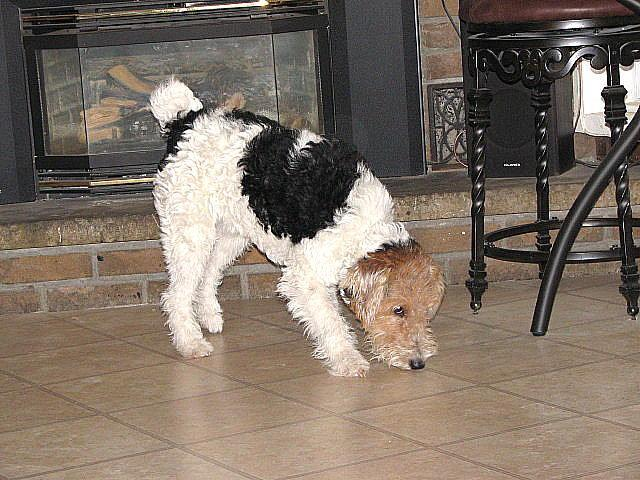wire-haired_fox_terrier: (144, 73, 451, 380)
